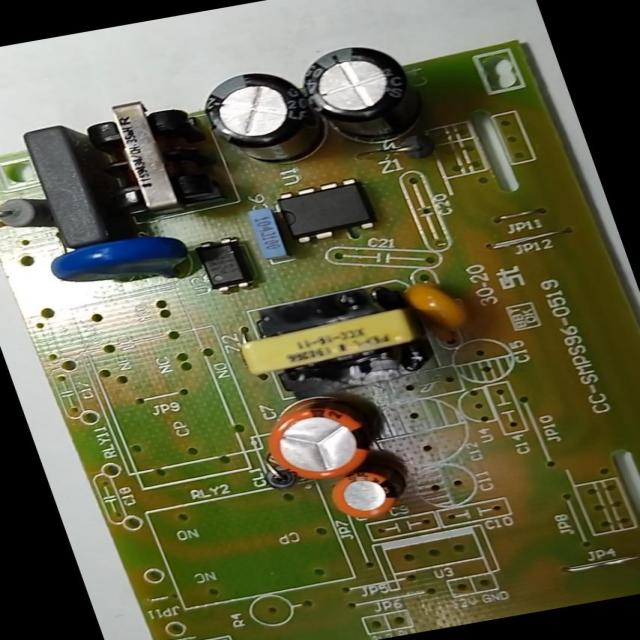Cap1: (248, 389, 389, 488)
Cap2: (317, 457, 420, 528)
Cap3: (186, 61, 335, 178)
Cap4: (289, 35, 442, 154)
MOSFET: (269, 174, 383, 248)
Mov: (38, 225, 204, 303)
Resistor: (0, 190, 56, 239)
Transformer: (223, 279, 444, 409), (68, 87, 236, 227)
